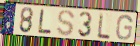3: (77, 11, 93, 38)
8: (18, 6, 35, 34)
G: (115, 14, 134, 41)
L: (97, 12, 111, 40), (38, 8, 53, 34)
S: (56, 9, 76, 37)
